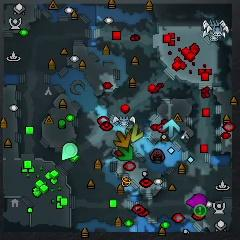p2: (61, 141, 79, 161)
p3: (186, 192, 208, 209)
x2: (125, 122, 144, 142)
x3: (162, 118, 181, 138)
x4: (117, 146, 134, 162)
x5: (114, 131, 133, 147)
